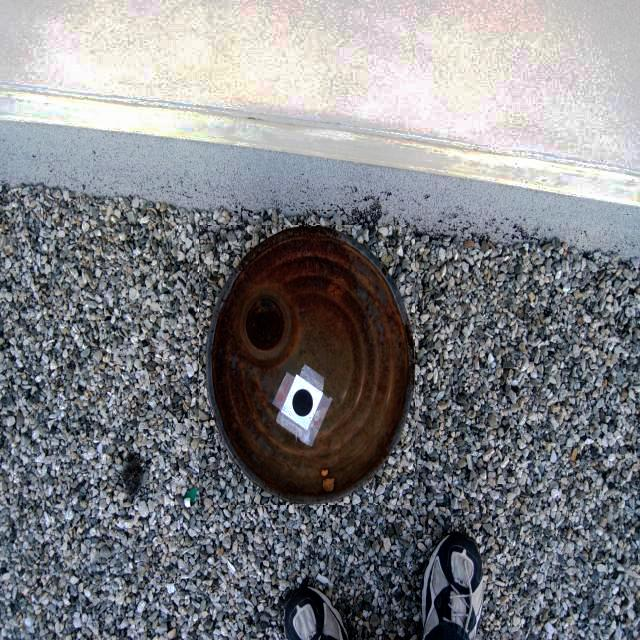Corrosion: (236, 243, 381, 394), (209, 307, 278, 472), (350, 282, 414, 458), (238, 423, 320, 500), (268, 234, 368, 286), (325, 397, 377, 494), (254, 463, 327, 504), (214, 260, 253, 335), (244, 236, 277, 272), (286, 432, 319, 452)
